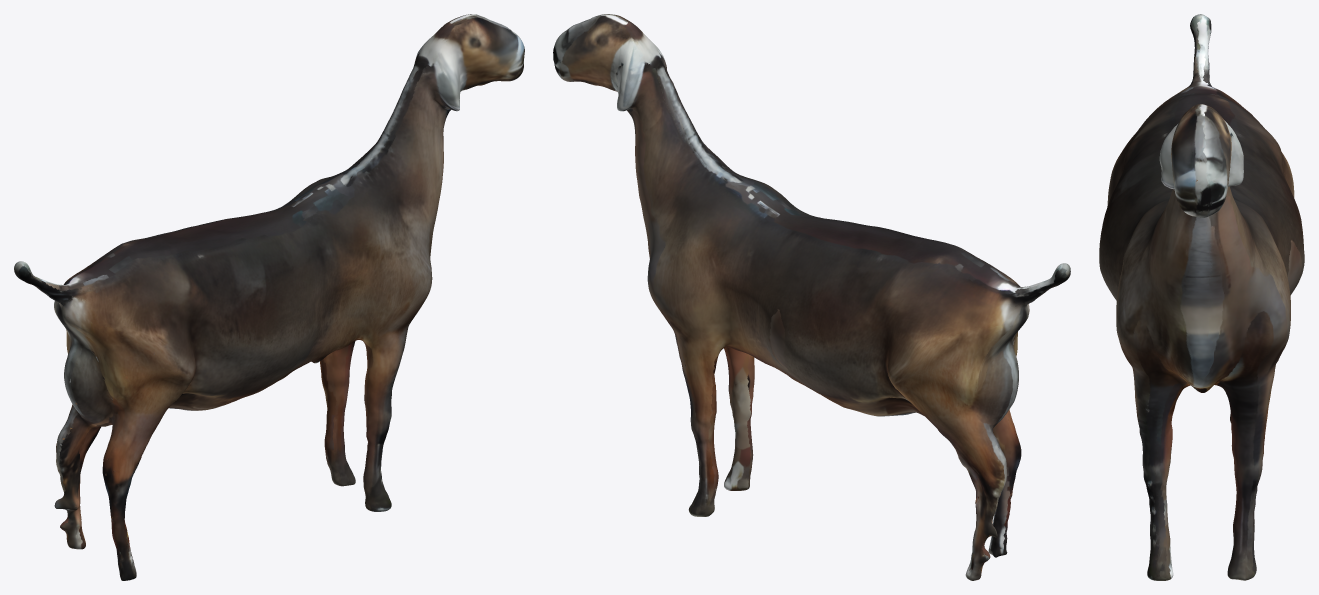
File: joven.glb
3 renders of one model, left to right at view 1: azimuth 30°, elevation 25°; view 2: azimuth 150°, elevation 25°; view 3: azimuth 270°, elevation 25°, orthographic. The views are drawn at different scales.
Visible parts, largest first — view 1: mesh; view 2: mesh; view 3: mesh.
Part boxes in pixels (box(x1,y1,x2,y2)): mesh: box(14, 14, 524, 580); mesh: box(553, 14, 1070, 580); mesh: box(1099, 14, 1304, 580).
Bounding box in the file's own units: 1.62 × 1.41 × 0.4888.
Materials: 1 (1 with a texture image).
